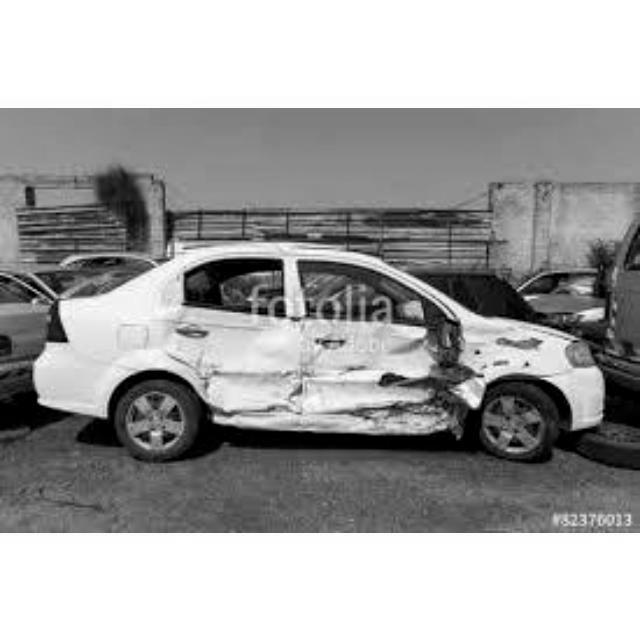doorouter-dent: (303, 322, 461, 443), (168, 317, 296, 426)
fender-dent: (461, 312, 577, 384)
